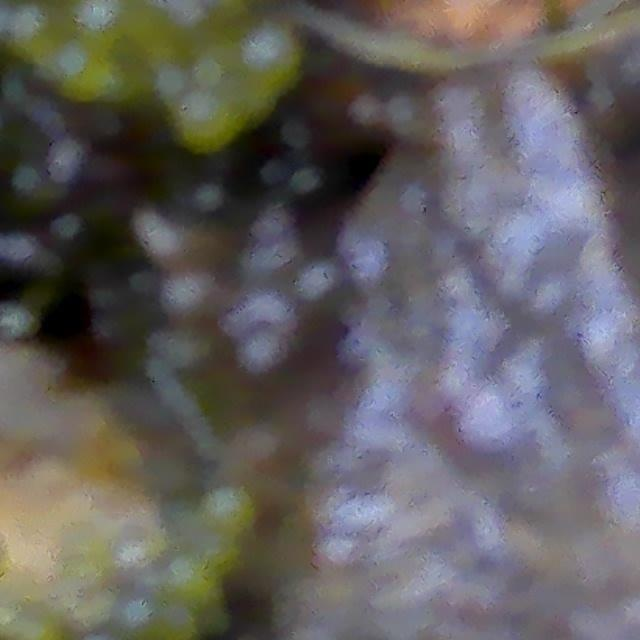SeaGrape: (239, 318, 298, 390), (290, 259, 352, 325), (171, 89, 235, 149), (244, 23, 302, 78), (199, 486, 254, 542), (163, 544, 218, 599), (79, 0, 135, 51), (15, 8, 66, 60), (152, 601, 204, 640), (58, 53, 110, 92)
